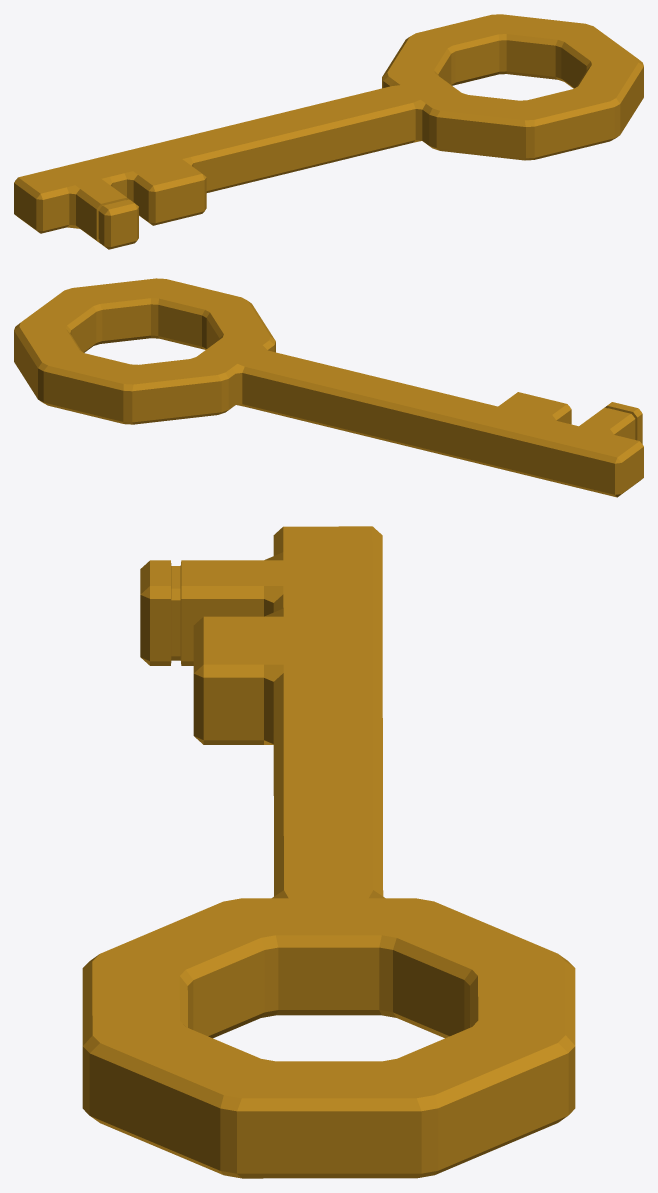
Rendered from Key.fbx.
3 renders of one model, top to bottom at view 1: azimuth 30°, elevation 25°; view 2: azimuth 150°, elevation 25°; view 3: azimuth 270°, elevation 25°, orthographic. The views are drawn at different scales.
Parts seen in each view (by area): view 1: Key; view 2: Key; view 3: Key.
Boxes of the visible parts, x1,y1,x2,y2 form: Key: (14,14,643,249); Key: (14,278,643,497); Key: (82,526,575,1178).
Bounding box in the file's own units: 81.56 × 5.25 × 29.29.
